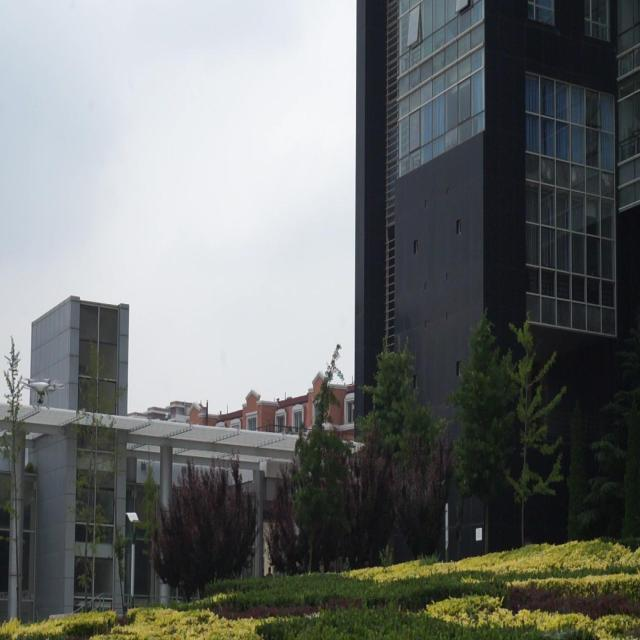drone: (18, 375, 66, 412)
